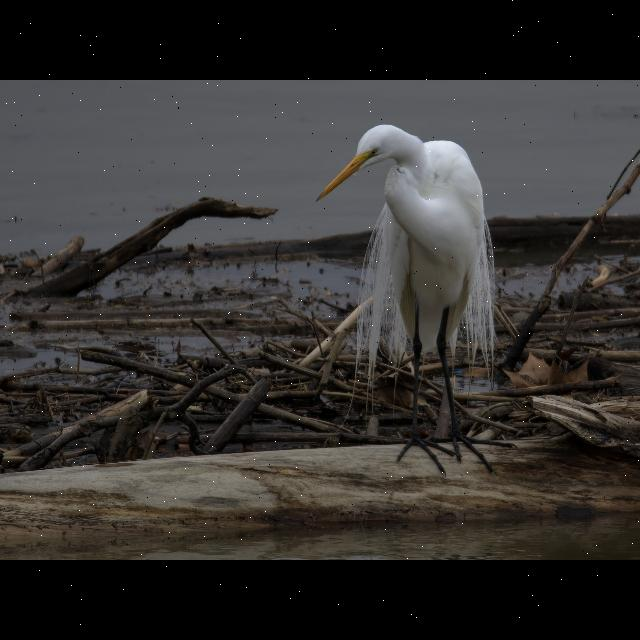egret: (311, 110, 524, 476)
